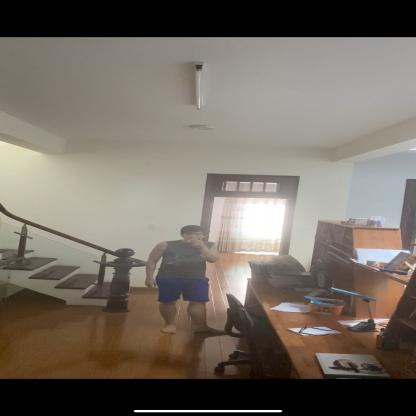cigarette: (186, 240, 191, 242)
person: (147, 225, 222, 334)
smoke: (174, 254, 181, 258), (166, 262, 176, 264)
